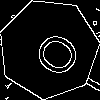O: (24, 24, 83, 81)
